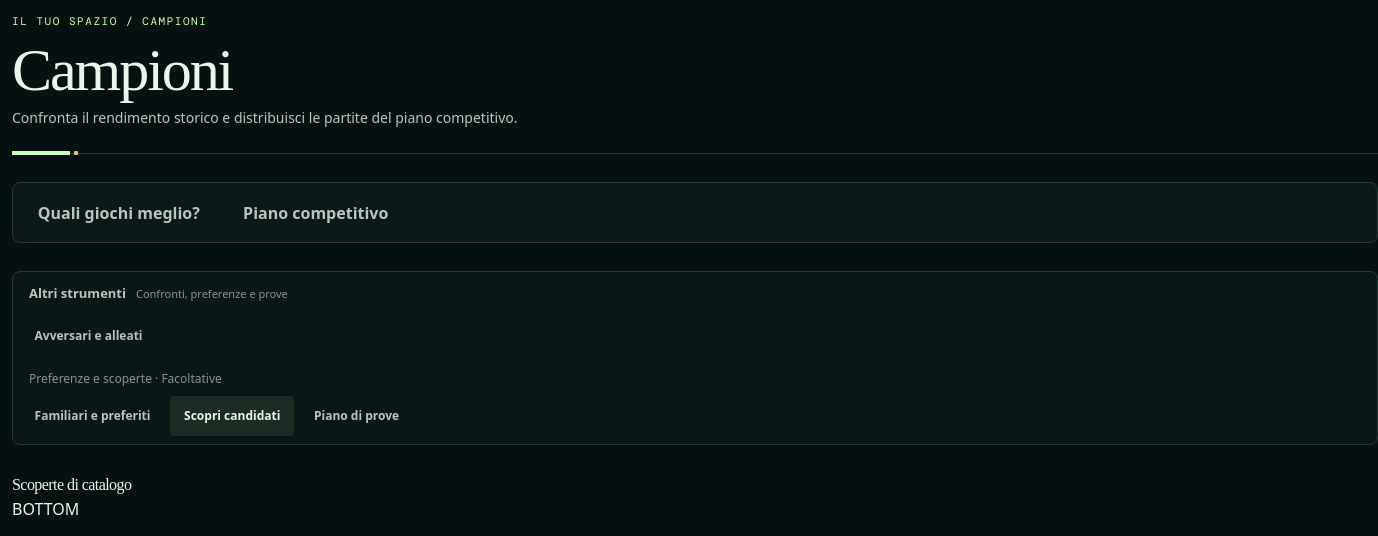
Test: link del contenitore campioni fra suggerimenti e analisi comuni › mantiene BOTTOM da training/discover a Piano comune
Expected: the text named "Ruolo effettivo" reads "BOTTOM", [12,498,79,520]
Click the link "Piano competitivo" at coordinates (316, 213), box [243,202,388,224]
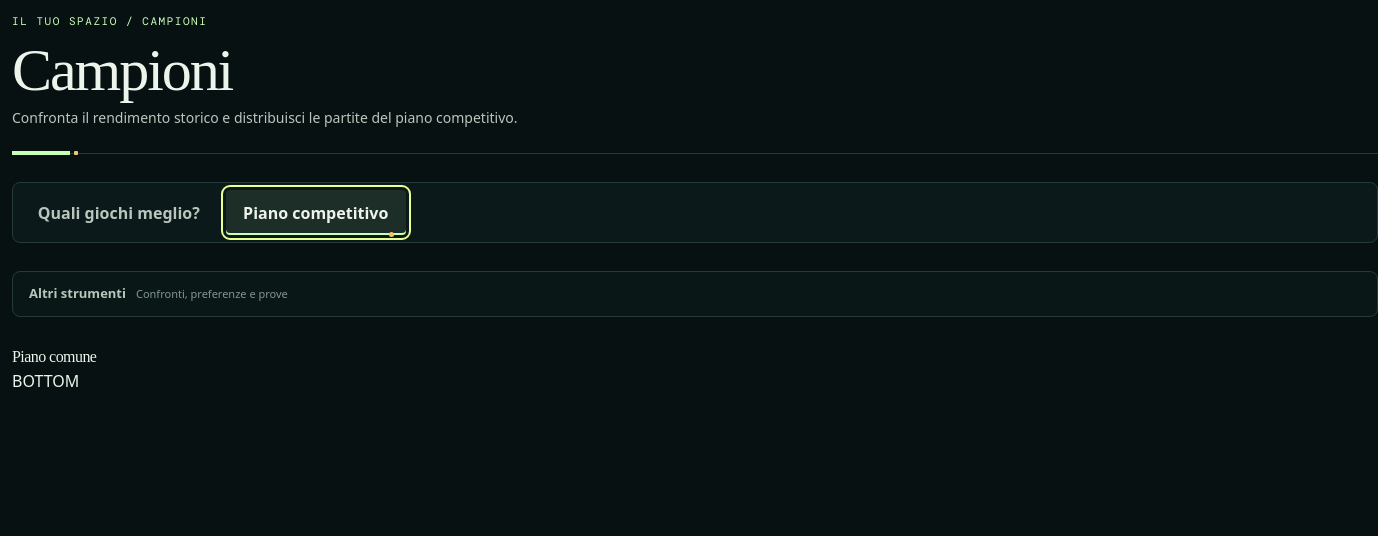
Expected: the text named "Ruolo effettivo" reads "BOTTOM", [12,370,79,392]
Expected: the heading "Piano comune" is shown, [12,348,96,365]
